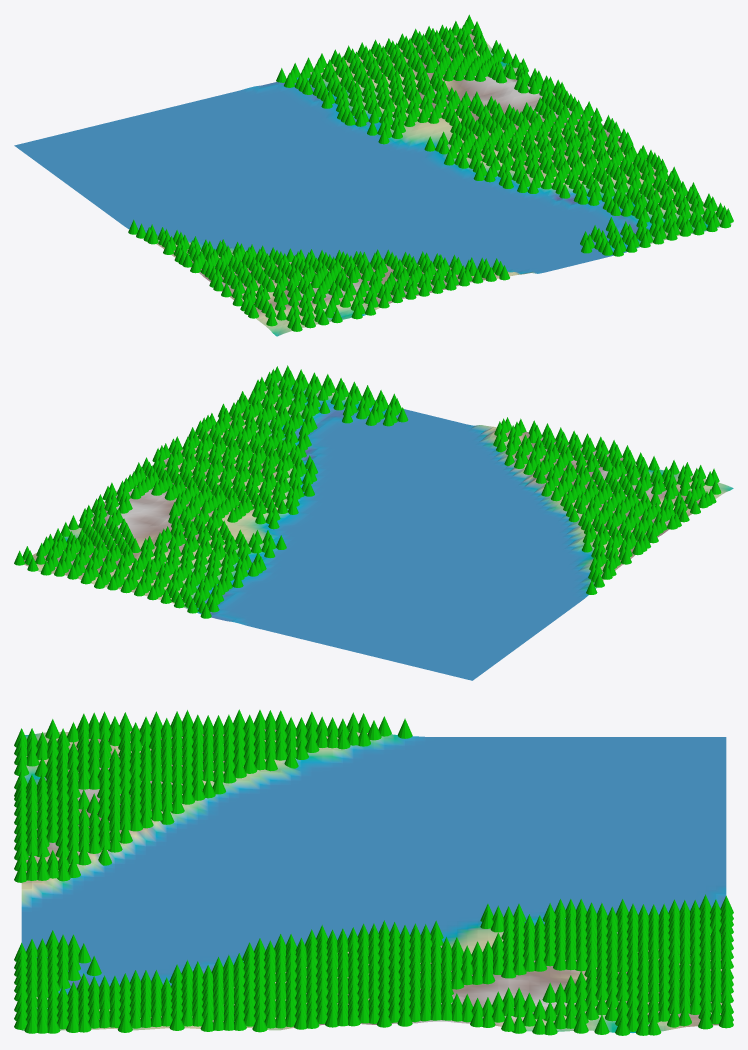
Rendered from 005837_with_tree.glb.
The picture shows the model from 3 angles, top to bottom: view 1: azimuth 30°, elevation 25°; view 2: azimuth 150°, elevation 25°; view 3: azimuth 270°, elevation 25°; orthographic projection. The views are drawn at different scales.
Parts seen in each view (by area): view 1: terrain, trees; view 2: terrain, trees; view 3: terrain, trees.
Part boxes in pixels (x1,y1,x2,y2): terrain: (14, 29, 731, 336); trees: (128, 14, 733, 331); terrain: (24, 380, 733, 680); trees: (14, 365, 721, 618); terrain: (21, 728, 726, 1032); trees: (14, 709, 733, 1035).
Size of the model in its own units: 0.0187 by 0.000911 by 0.0187.
